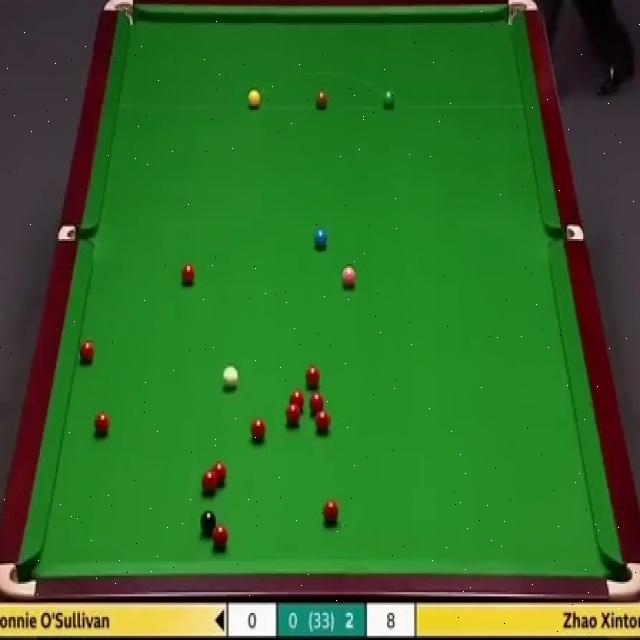black-ball: (199, 507, 217, 533)
blue-ball: (314, 228, 328, 252)
brown-ball: (315, 89, 328, 109)
green-ball: (381, 90, 394, 109)
pink-ball: (341, 268, 357, 291)
red-ball: (211, 523, 229, 555), (92, 409, 110, 436), (250, 415, 266, 441), (202, 469, 218, 494), (306, 365, 322, 389), (79, 339, 93, 365), (315, 407, 329, 433), (325, 500, 339, 526), (212, 461, 227, 485), (286, 405, 302, 427), (288, 389, 304, 410), (310, 392, 324, 414), (180, 266, 196, 284)
white-ball: (221, 364, 239, 392)
yellow-ball: (247, 89, 261, 109)
